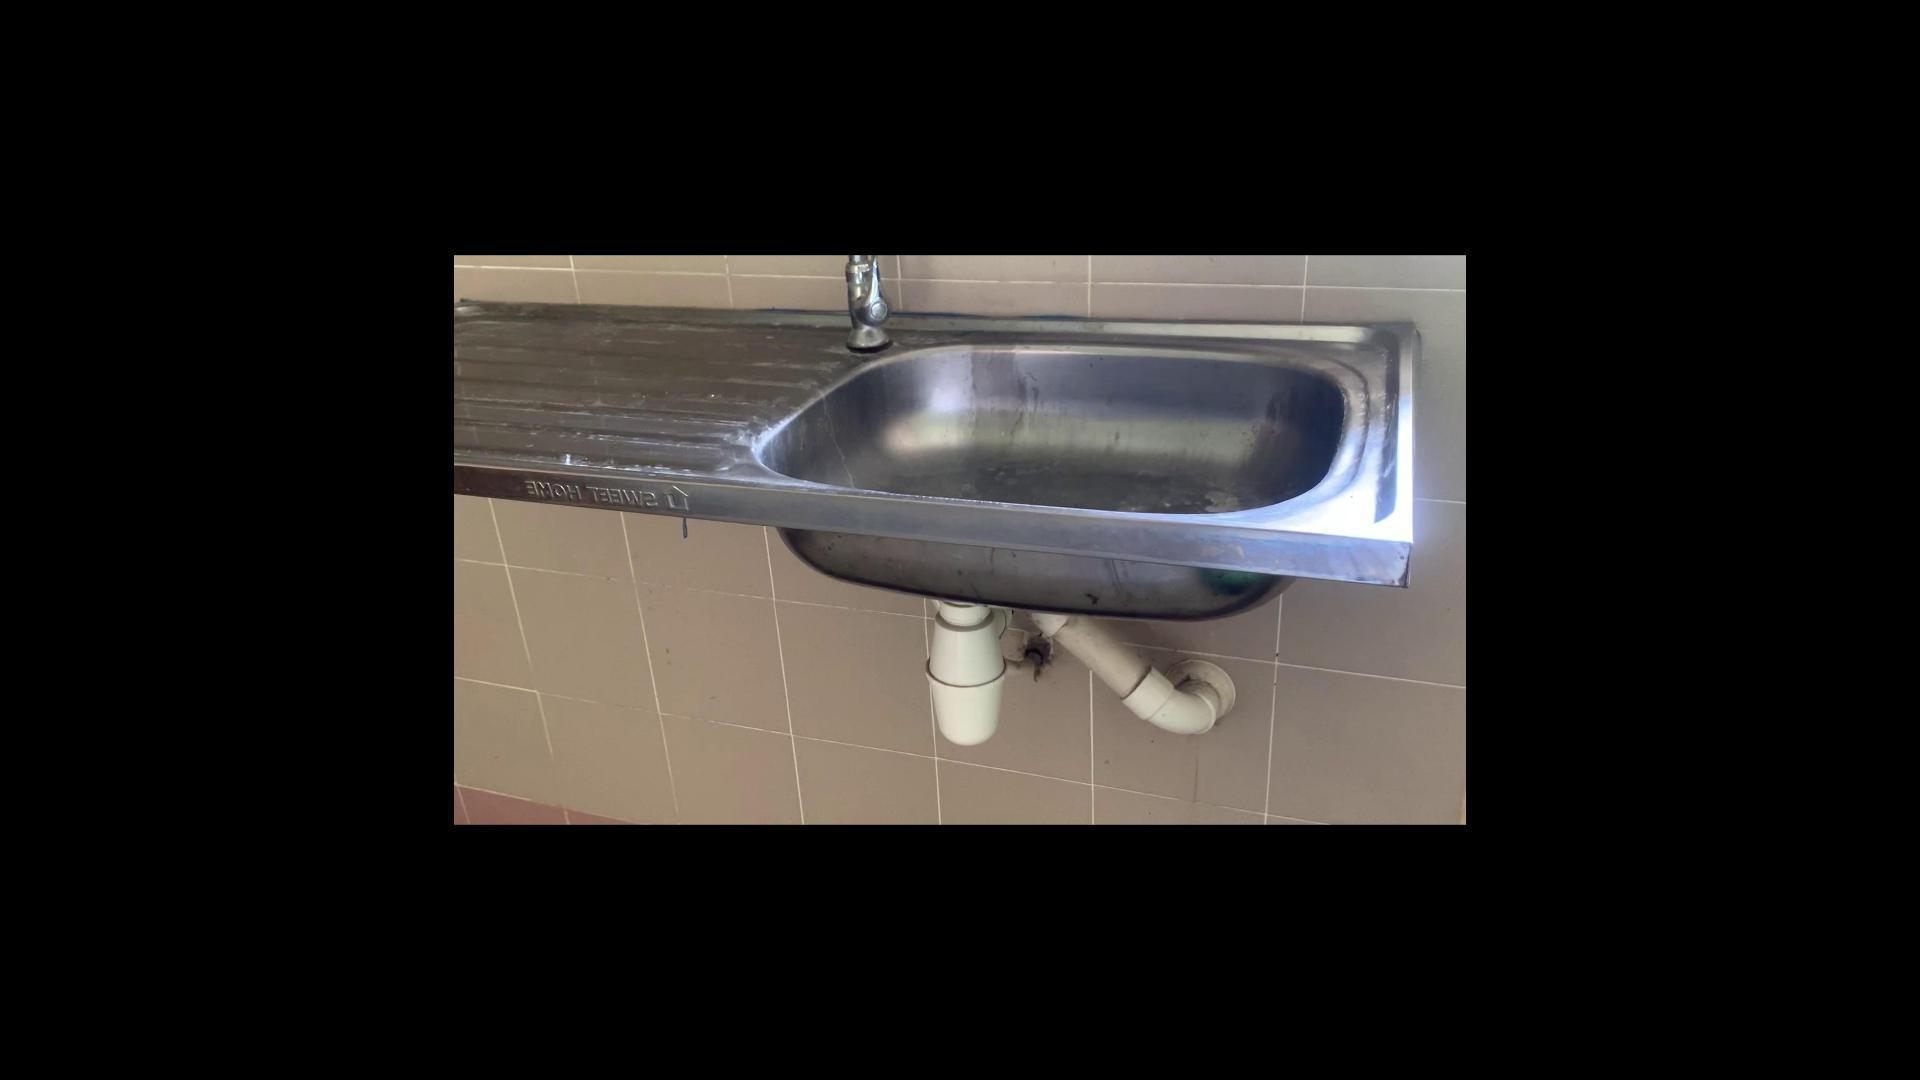Lavaplatos: (694, 255, 1466, 665)
